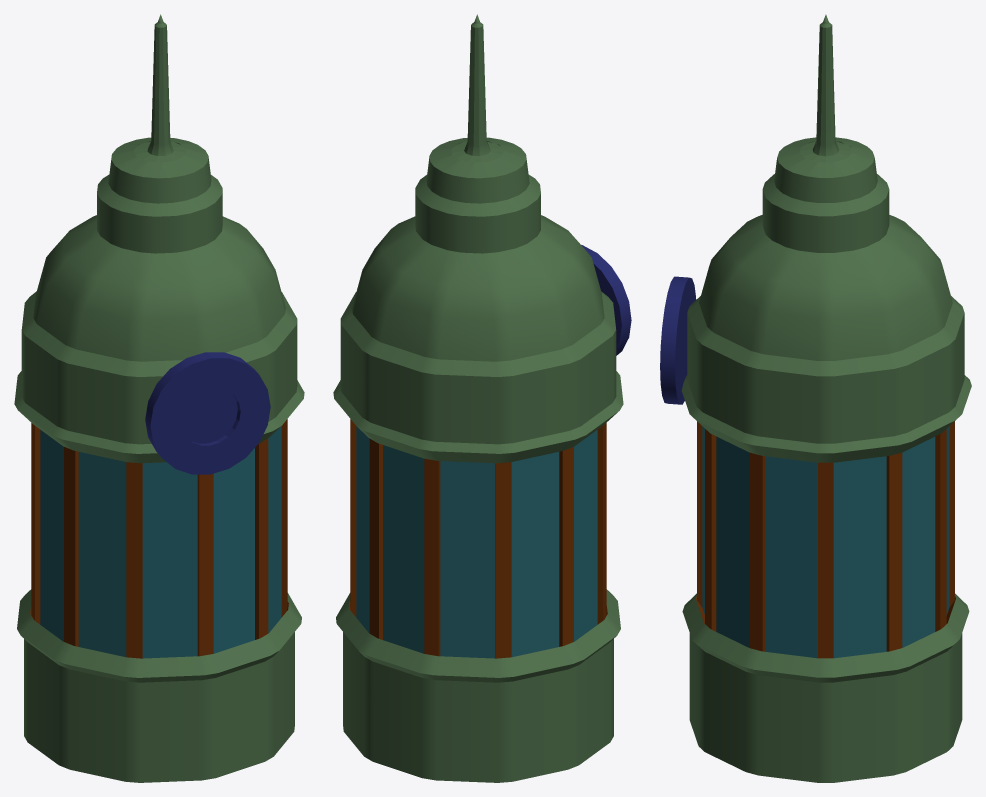
File: Object_Thing.fbx
The picture shows the model from 3 angles, left to right: view 1: azimuth 30°, elevation 25°; view 2: azimuth 150°, elevation 25°; view 3: azimuth 270°, elevation 25°; orthographic projection.
Visible parts, largest first — view 1: pCylinder3; view 2: pCylinder3; view 3: pCylinder3.
Part boxes in pixels (x1,y1,x2,y2): pCylinder3: (14, 14, 304, 782); pCylinder3: (333, 14, 631, 782); pCylinder3: (660, 14, 971, 782).
Size of the model in its own units: 0.4706 by 1.28 by 0.5079.
